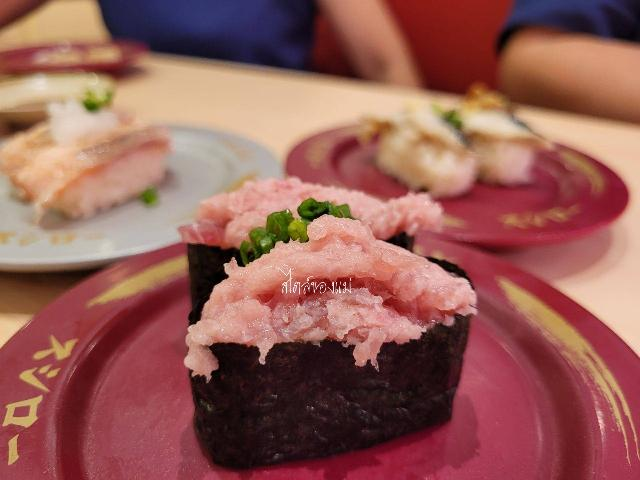janred: (27, 252, 583, 479), (294, 114, 611, 243), (3, 36, 147, 74)
janwhite: (6, 115, 264, 238)
